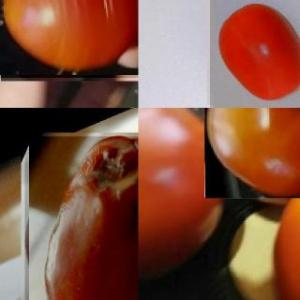tomato: (139, 108, 229, 290), (210, 0, 300, 108), (204, 109, 300, 198)
